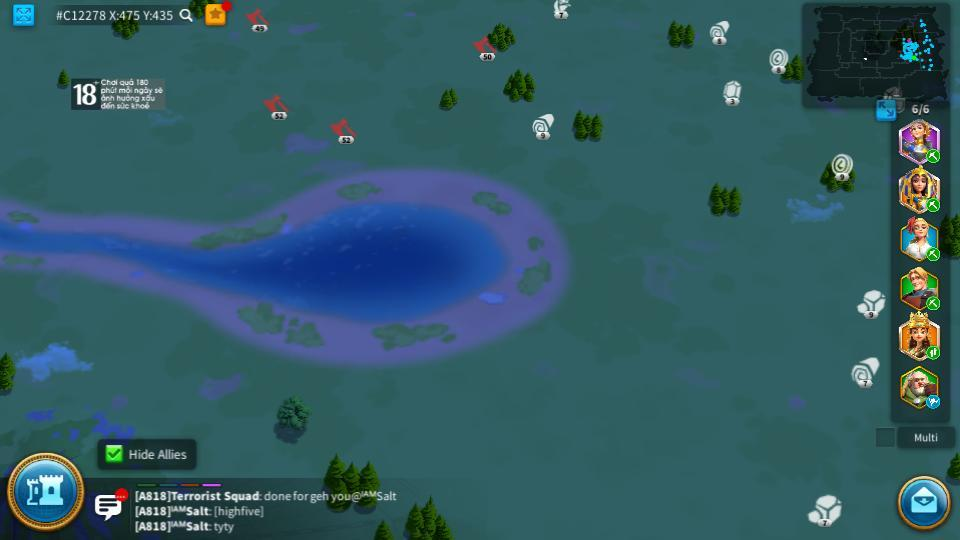gem-z-out: (722, 81, 742, 104)
march_farming: (925, 197, 941, 212)
march_idle: (925, 396, 942, 408)
march_marching: (925, 150, 942, 162), (926, 347, 941, 359), (926, 297, 941, 308)
